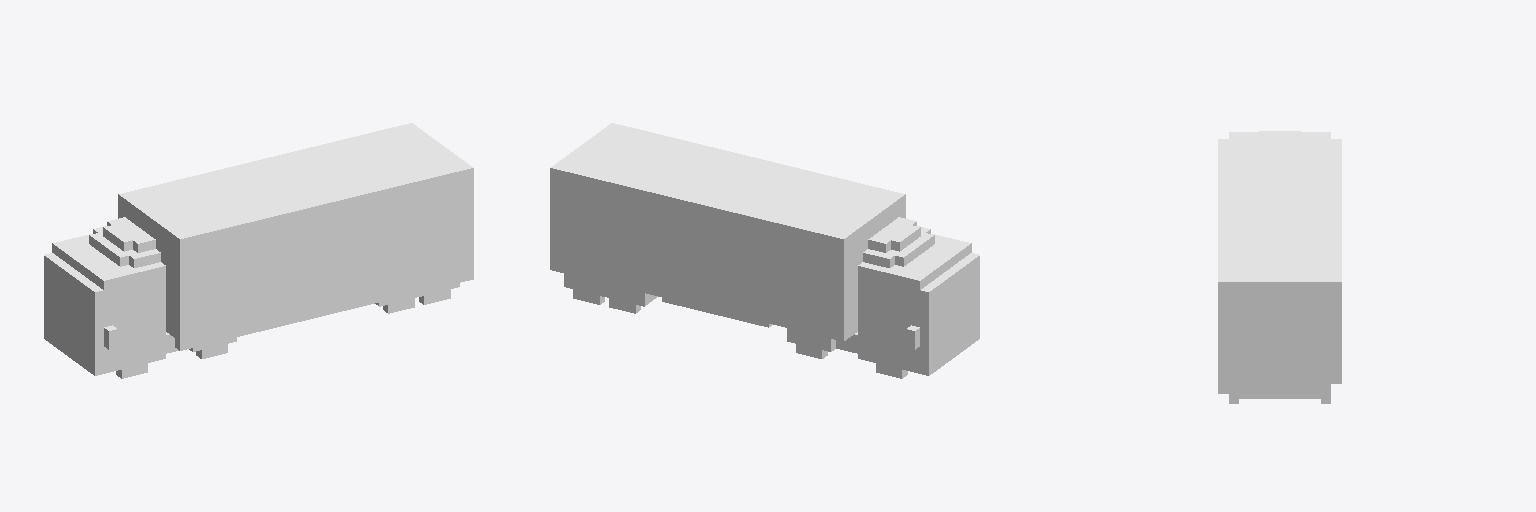
The model's file is truck_2.obj.
3 renders of one model, left to right at view 1: azimuth 30°, elevation 25°; view 2: azimuth 150°, elevation 25°; view 3: azimuth 270°, elevation 25°, orthographic.
Parts seen in each view (by area): view 1: truck_2; view 2: truck_2; view 3: truck_2.
Part boxes in pixels (x1,y1,x2,y2): truck_2: (44,123,473,378); truck_2: (550,123,979,378); truck_2: (1218,131,1341,403).
Bounding box in the file's own units: 42 × 14 × 12.